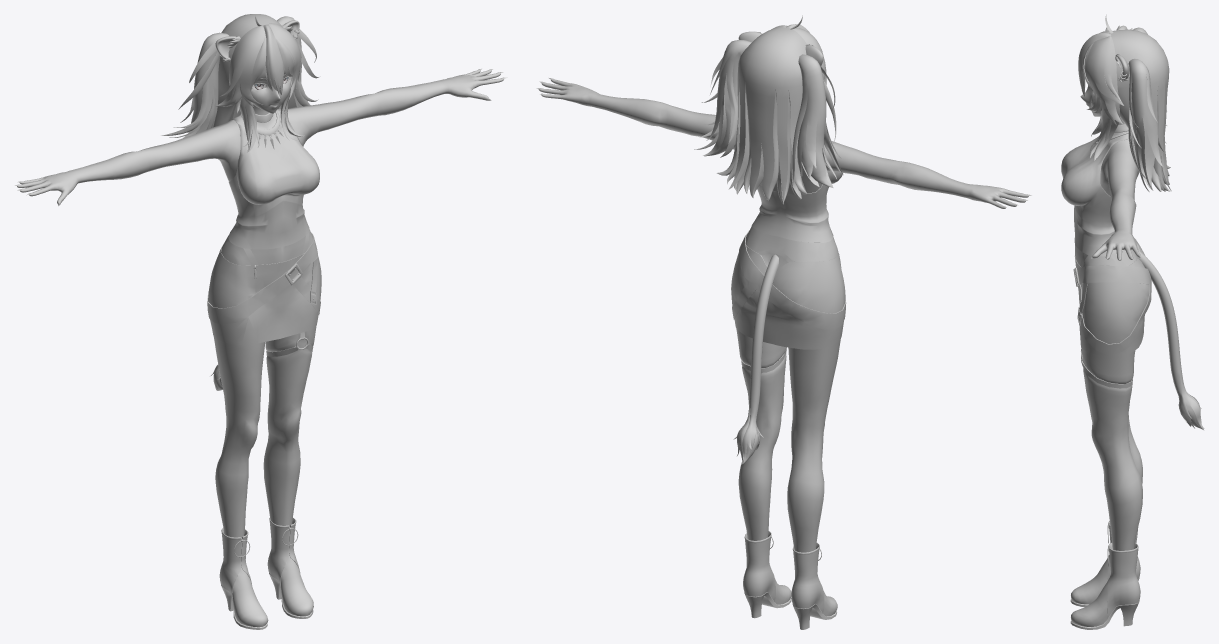
Rendered from botan.fbx.
The picture shows the model from 3 angles, left to right: view 1: azimuth 30°, elevation 25°; view 2: azimuth 150°, elevation 25°; view 3: azimuth 270°, elevation 25°; orthographic projection.
Visible parts, largest first — view 1: Body; view 2: Body; view 3: Body.
Boxes of the visible parts, x1,y1,x2,y2 form: Body: [15, 14, 507, 629]; Body: [536, 15, 1031, 629]; Body: [1061, 14, 1204, 629].
Bounding box in the file's own units: 13.62 × 16.04 × 3.52.
